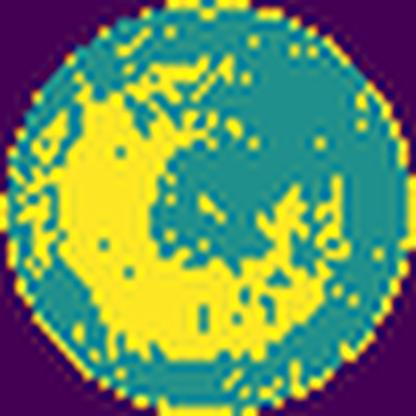Donut: (20, 50, 348, 368)
